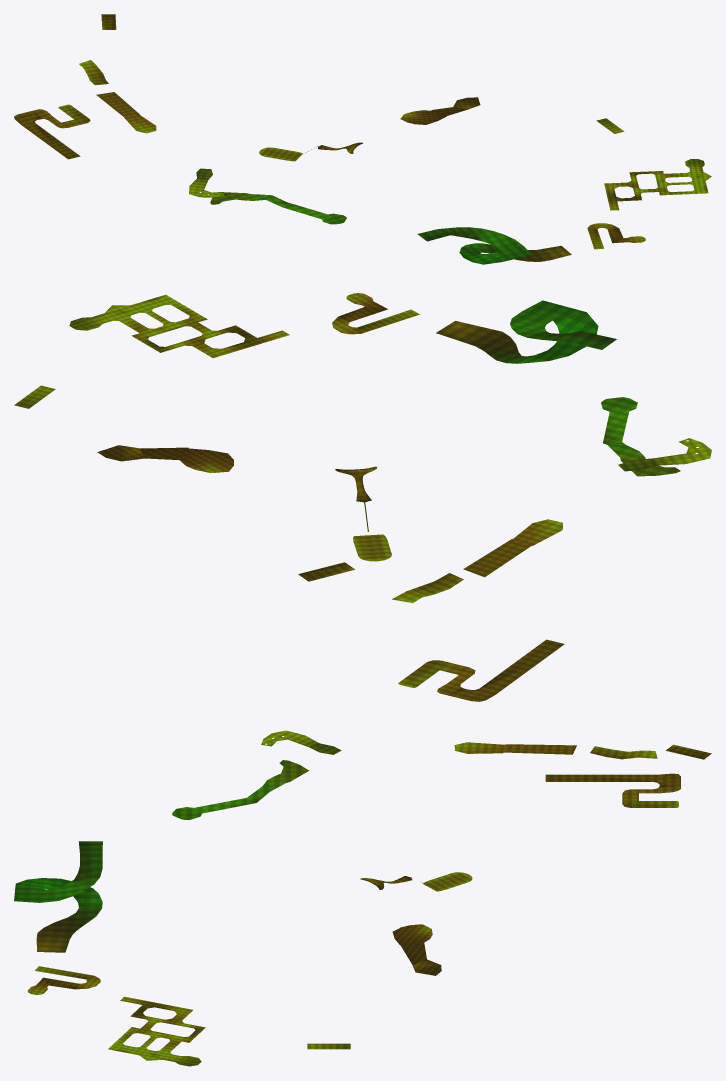
Rendered from Course_ENV_v22_green-v004.glb.
The picture shows the model from 3 angles, top to bottom: view 1: azimuth 30°, elevation 25°; view 2: azimuth 150°, elevation 25°; view 3: azimuth 270°, elevation 25°; orthographic projection. The views are drawn at different scales.
Visible parts, largest first — view 1: Green; view 2: Green; view 3: Green.
Boxes of the visible parts, x1,y1,x2,y2 form: Green: (14, 14, 711, 264); Green: (14, 293, 711, 701); Green: (14, 730, 711, 1066).
Size of the model in its own units: 145 by 22.28 by 152.
Materials: 1 (1 with a texture image).
